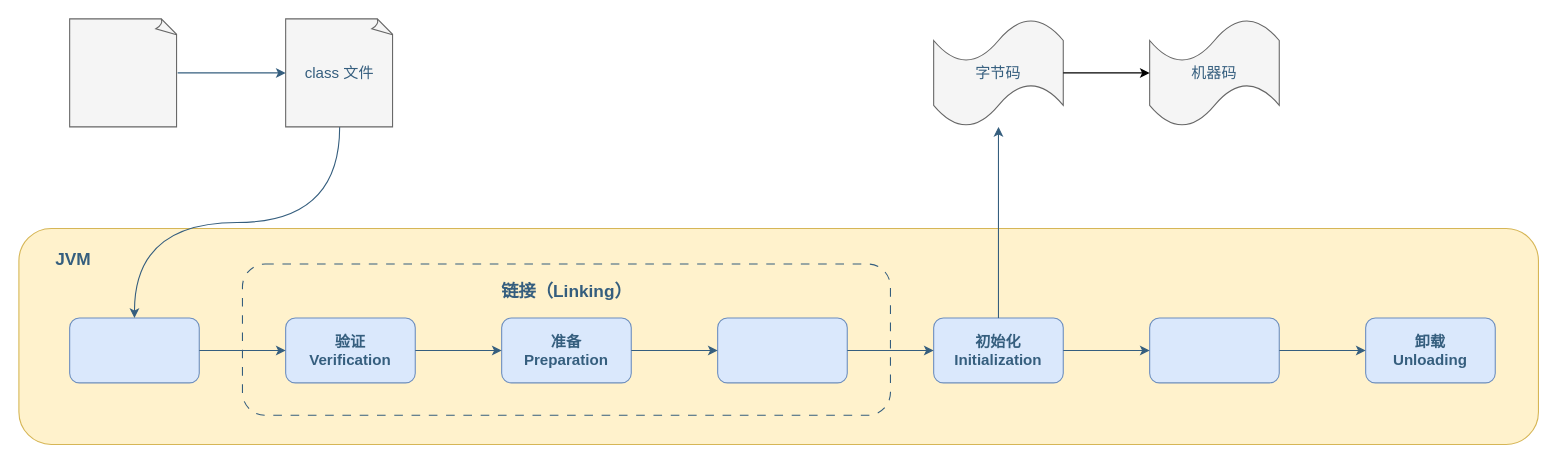
This 1557x463 diagram has some shape labels left out. Each missing label, with the box of its shape:
java 文件: (69, 18, 178, 127)
使用 Using: (1149, 317, 1279, 383)
加载 Loading: (69, 317, 199, 383)
解析 Resolution: (717, 317, 847, 383)
